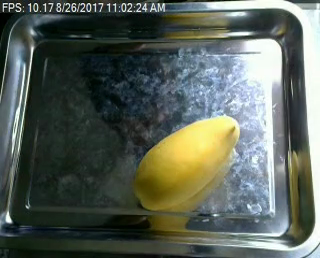Mango: (135, 117, 240, 211)
